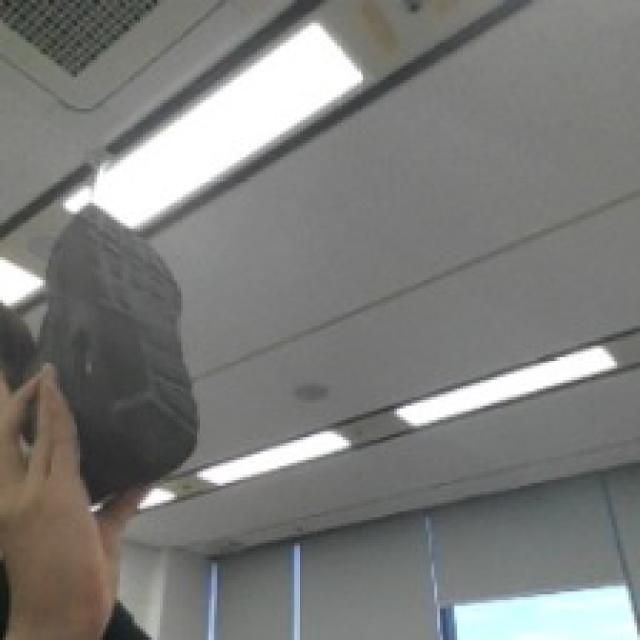shoe: (42, 201, 232, 504)
